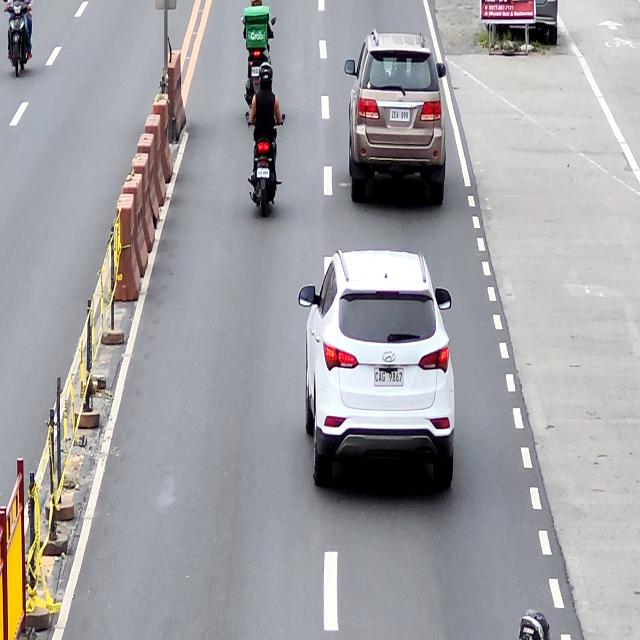Car: (298, 251, 457, 495), (346, 30, 448, 202)
License-Plate: (373, 367, 405, 388), (390, 108, 411, 120), (256, 167, 270, 180), (251, 66, 261, 77)
Motorcycle: (246, 108, 282, 216), (241, 15, 276, 106)
